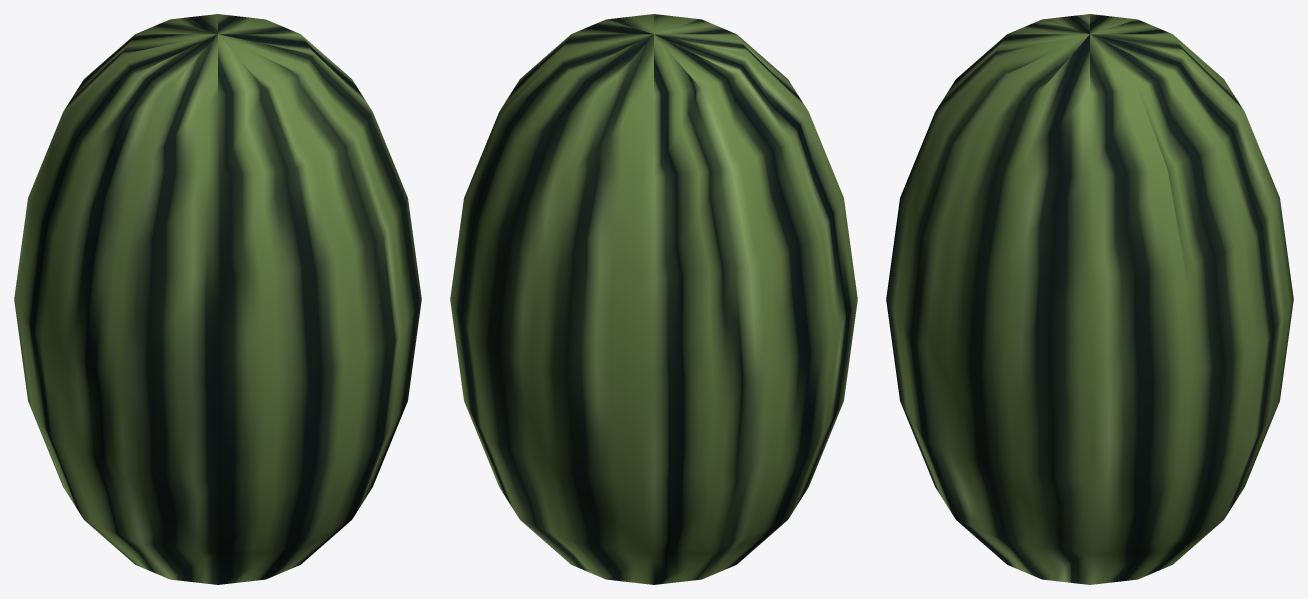
Rendered from assets_watermelon_full.fbx.
The picture shows the model from 3 angles, left to right: view 1: azimuth 30°, elevation 25°; view 2: azimuth 150°, elevation 25°; view 3: azimuth 270°, elevation 25°; orthographic projection.
Parts seen in each view (by area): view 1: assets_watermelon_full; view 2: assets_watermelon_full; view 3: assets_watermelon_full.
Boxes of the visible parts, <box> form: assets_watermelon_full: <box>14,14,421,584</box>; assets_watermelon_full: <box>450,14,857,584</box>; assets_watermelon_full: <box>886,14,1293,584</box>.
Size of the model in its own units: 2.01 by 2.88 by 2.01.
